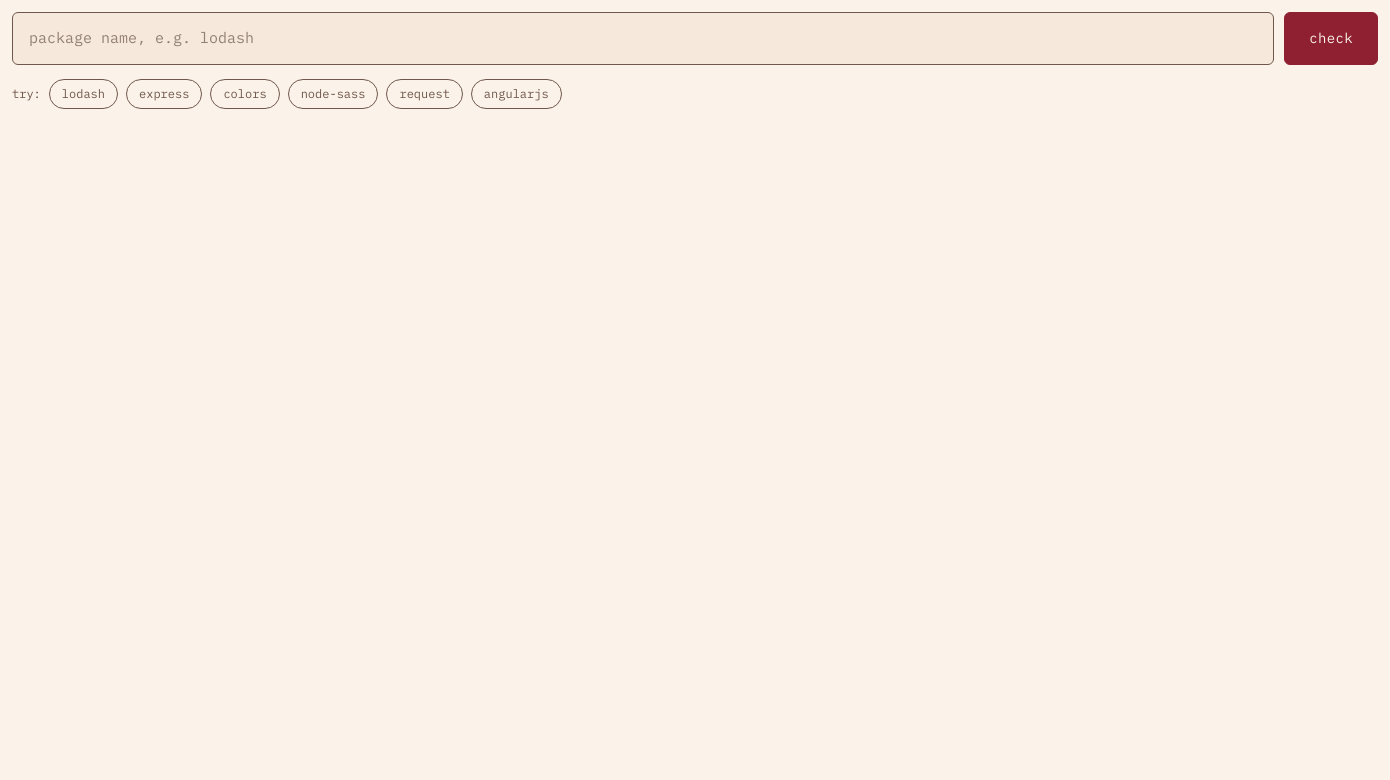
Test case: searching › requests the exact package and renders the health card and advisories
This screenshot has width=1390, height=780.
Type "examplepkg" into the field labelled "package name, e.g. lodash" at (643, 38), box [12, 12, 1274, 64]
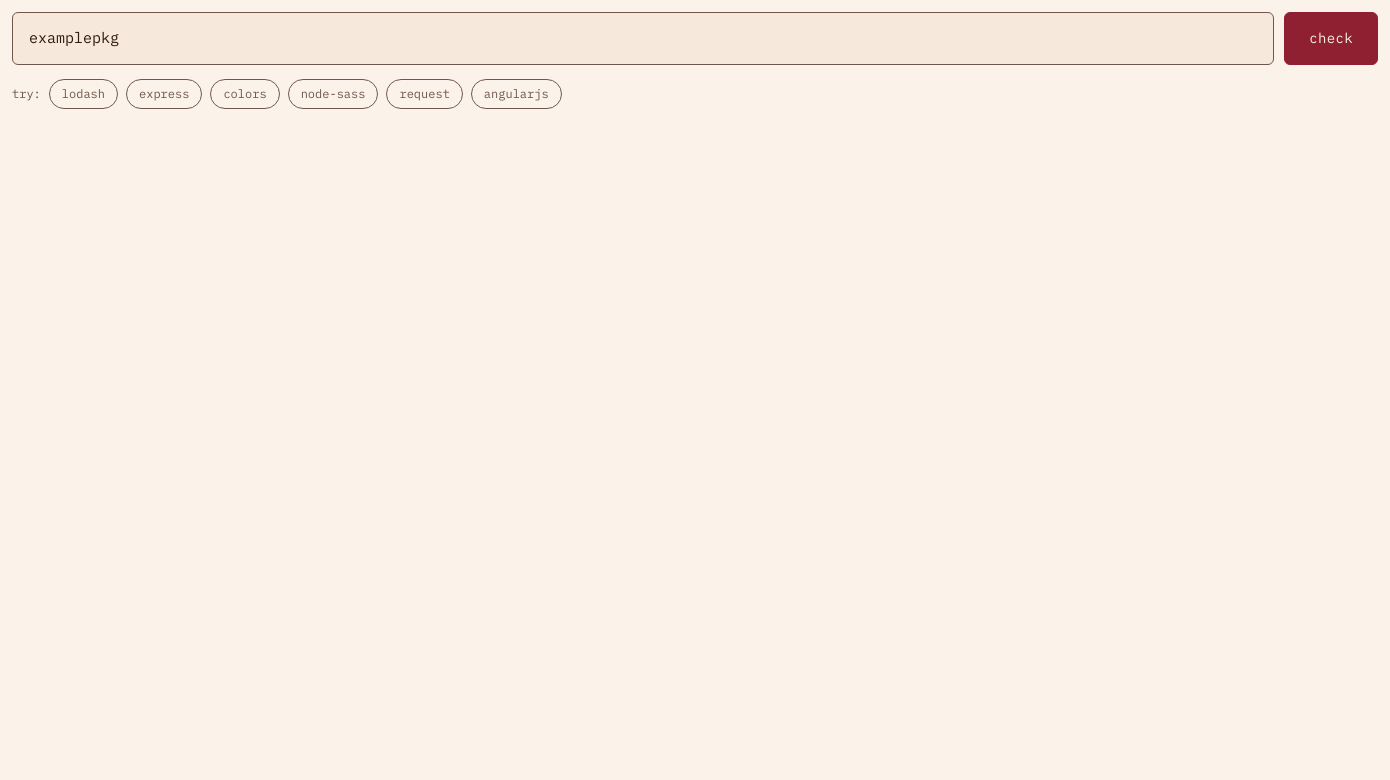
Click the button "check" at (1331, 38), box [1284, 12, 1378, 64]
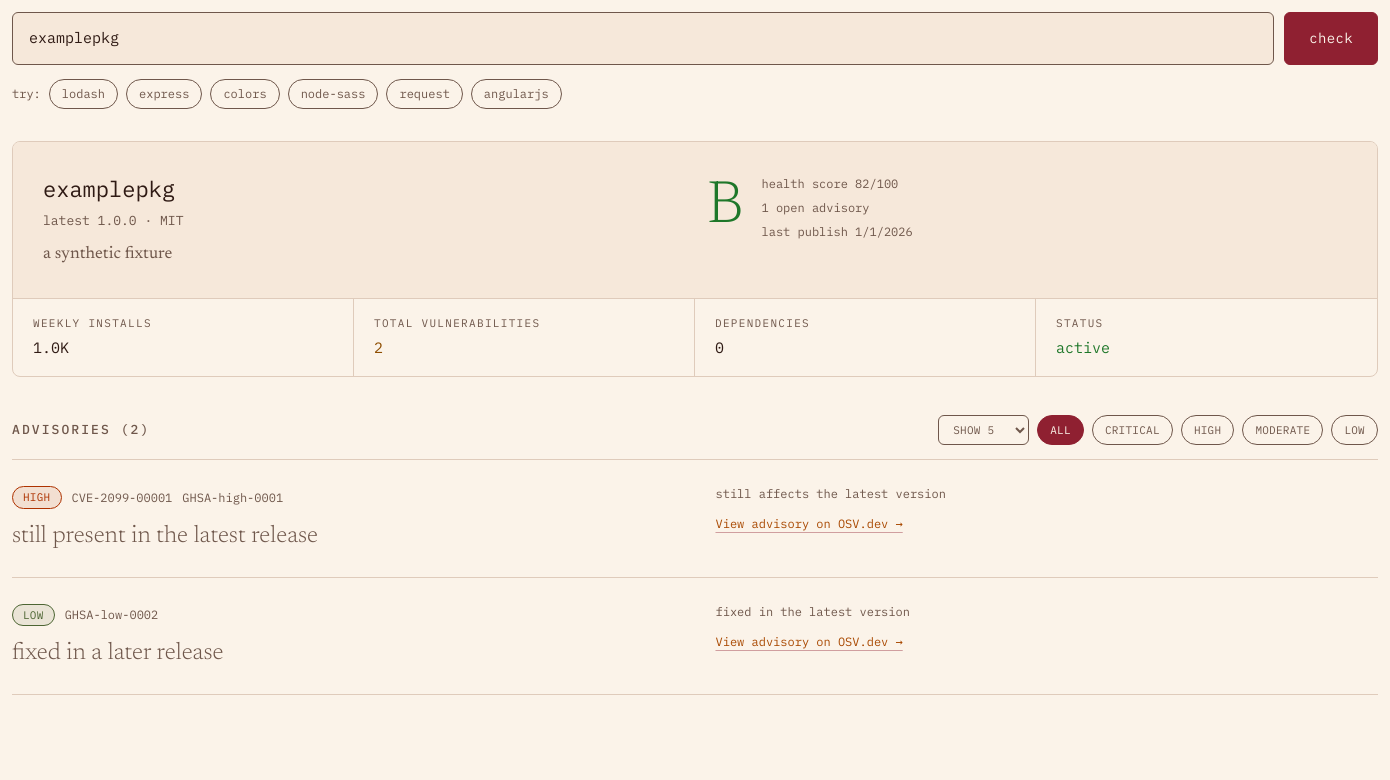
Result: the text "examplepkg" is shown at [43, 174, 175, 202]
Result: the text "health score 82/100" is shown at [762, 172, 913, 196]
Result: the text "GHSA-high-0001" is shown at [182, 490, 283, 506]
